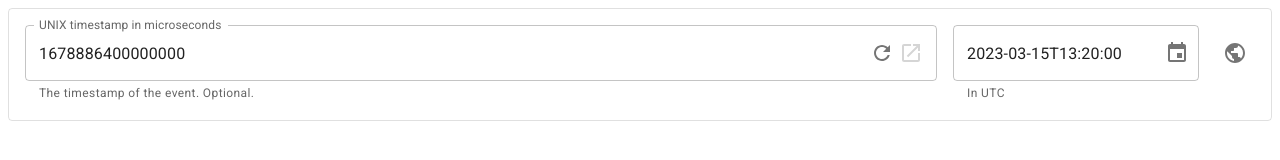
Test: TimestampPicker › shows validation error for invalid timestamp
Step 1. Replace the text in the field labelled "UNIX timestamp in microseconds" with "invalid" → (445, 53), box [25, 25, 865, 81]
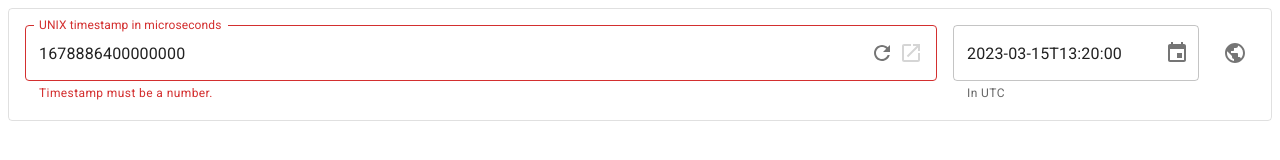
Expected: the text "Timestamp must be a number." is shown, [39, 86, 213, 100]
